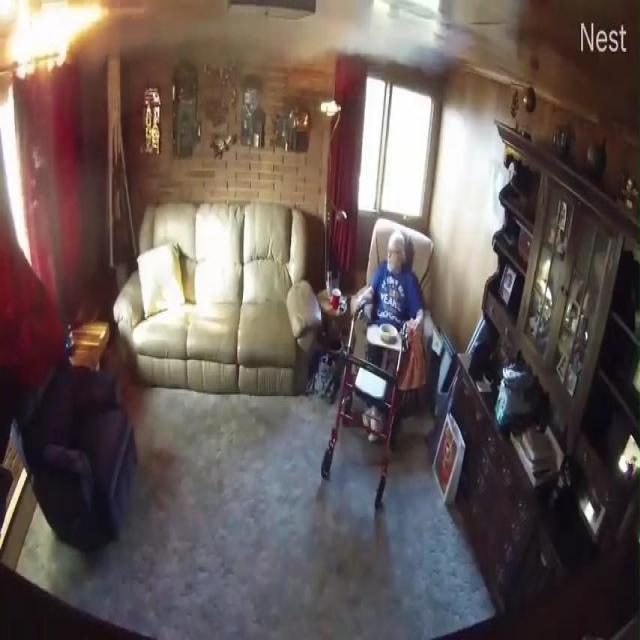smoke: (7, 8, 111, 79)
